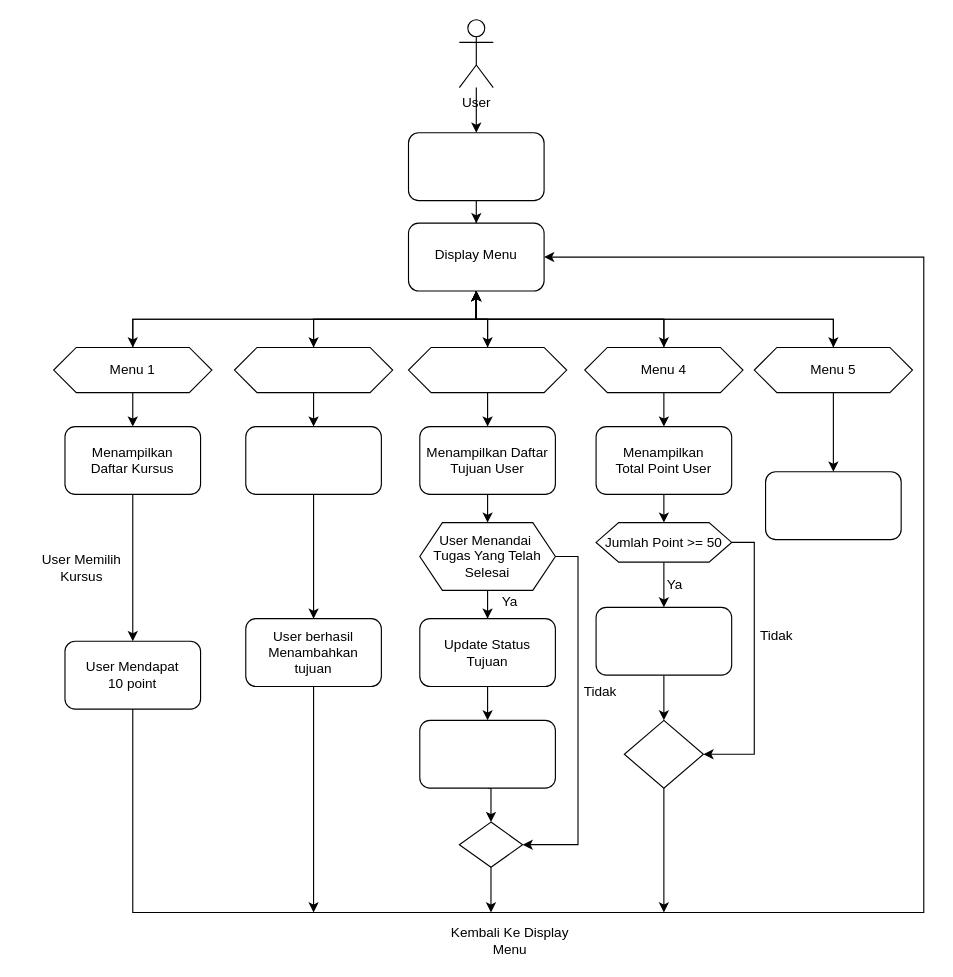
Image size: 953x977. Some labels were removed from this diagram. Here are the shapes that lost their labels. From the top down, the centre of each, then its label:
At (x=475, y=166): "Memulai App".
At (x=313, y=369): "Menu 2".
At (x=487, y=369): "Menu 3".
At (x=313, y=459): "Menambah tujuan User".
At (x=832, y=505): "Keluar App".
At (x=663, y=640): "User Mendapat Penghargaan".
At (x=487, y=753): "User Mendapat 5 Point".
